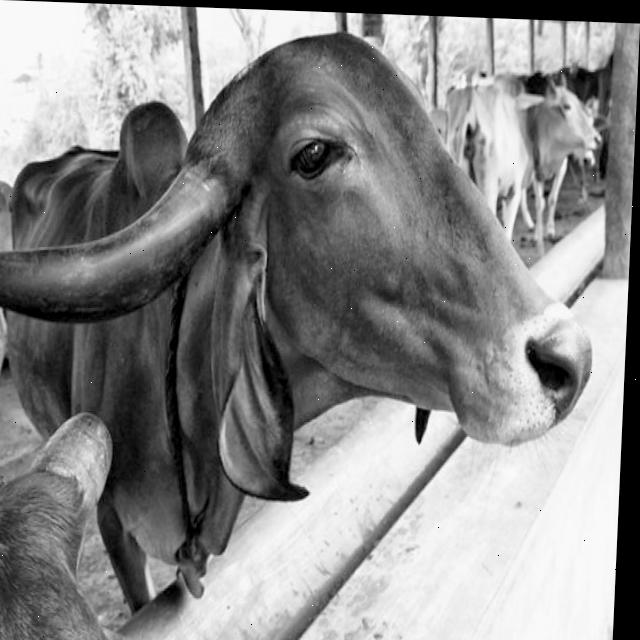Cow: (0, 17, 607, 635)
